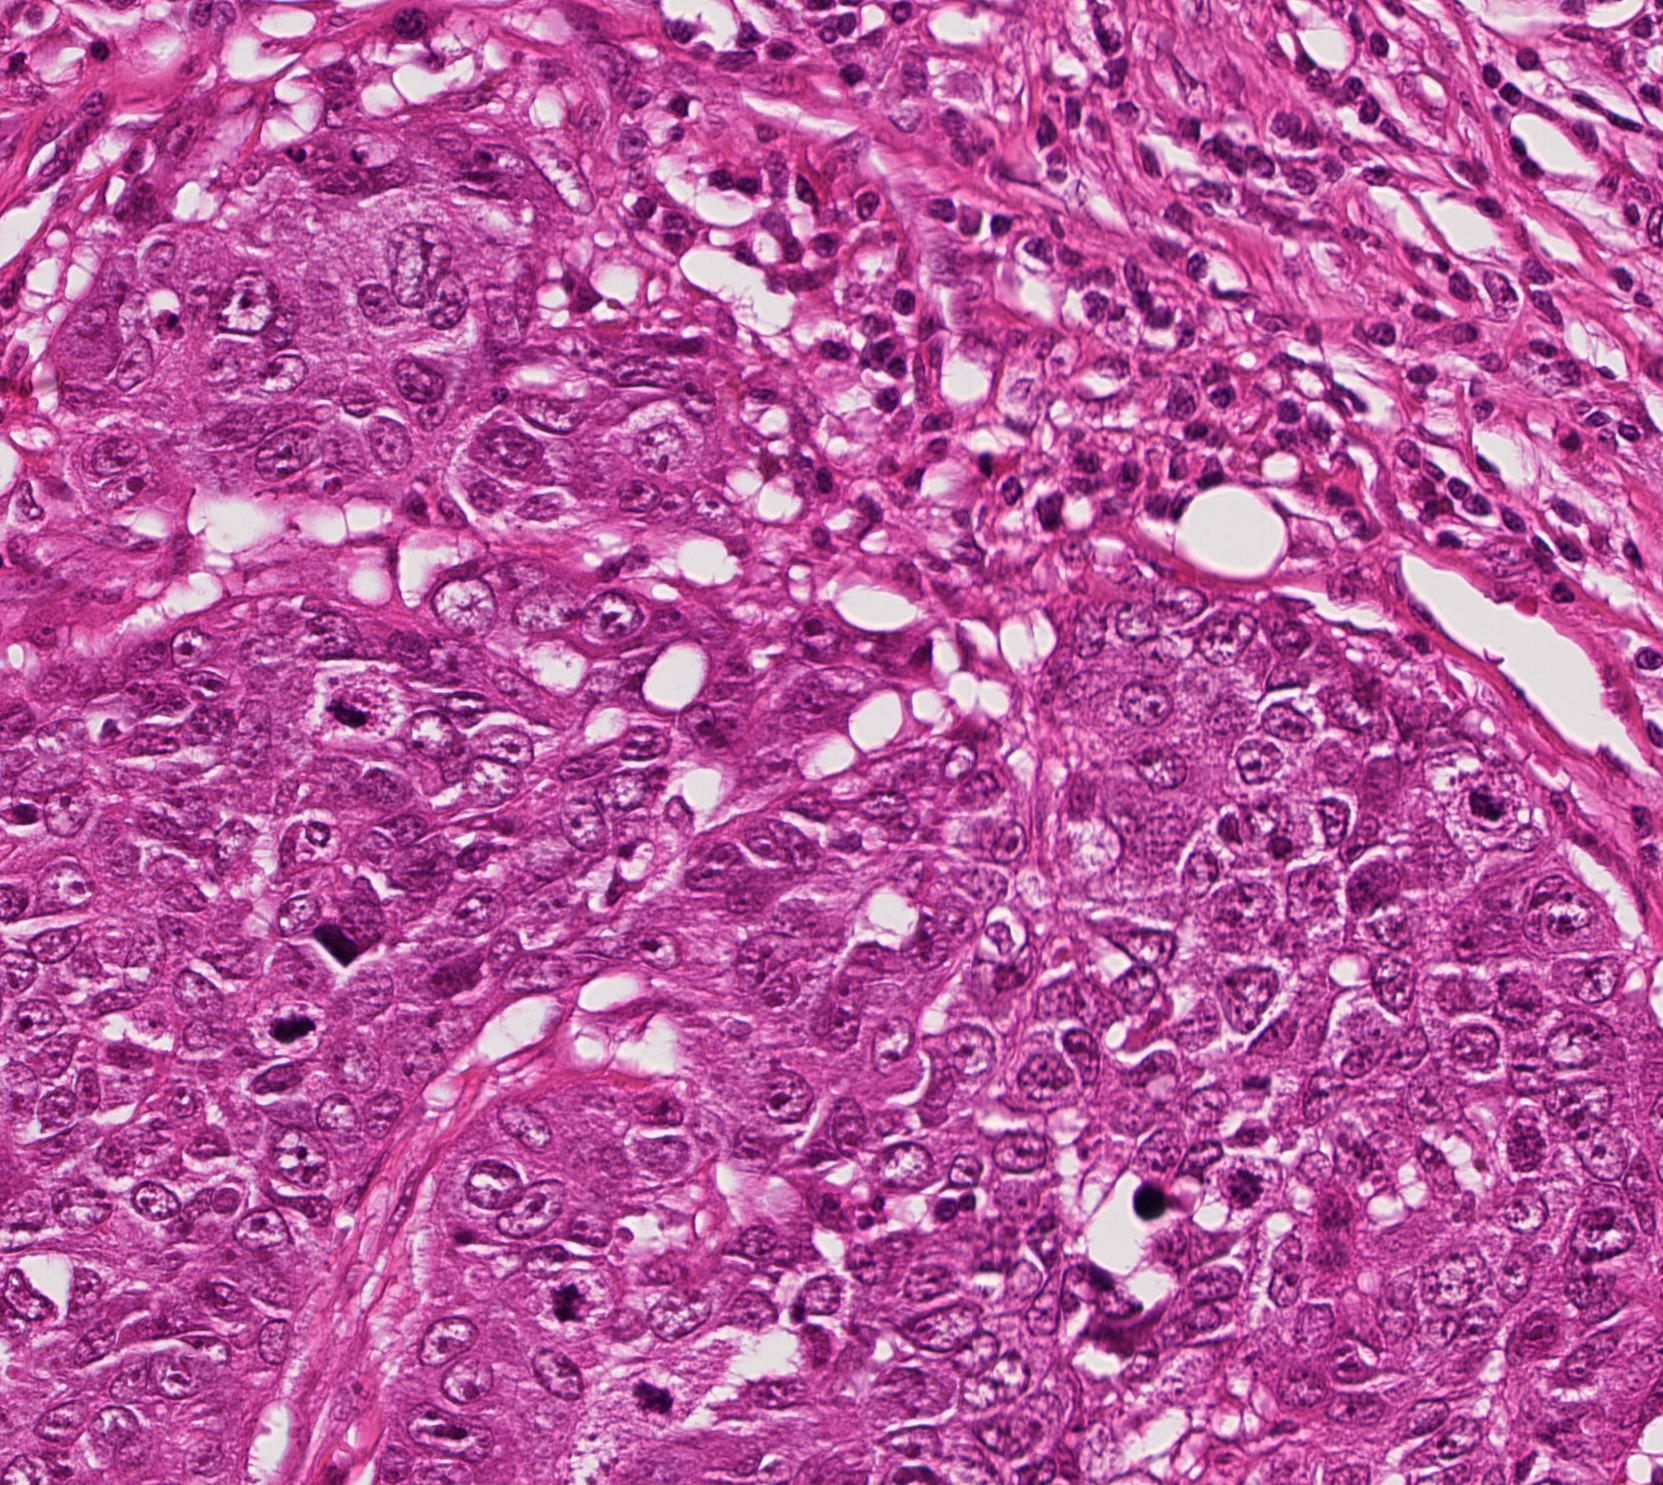mitosis: (621, 1365, 681, 1425), (252, 986, 313, 1046), (317, 687, 377, 745)
